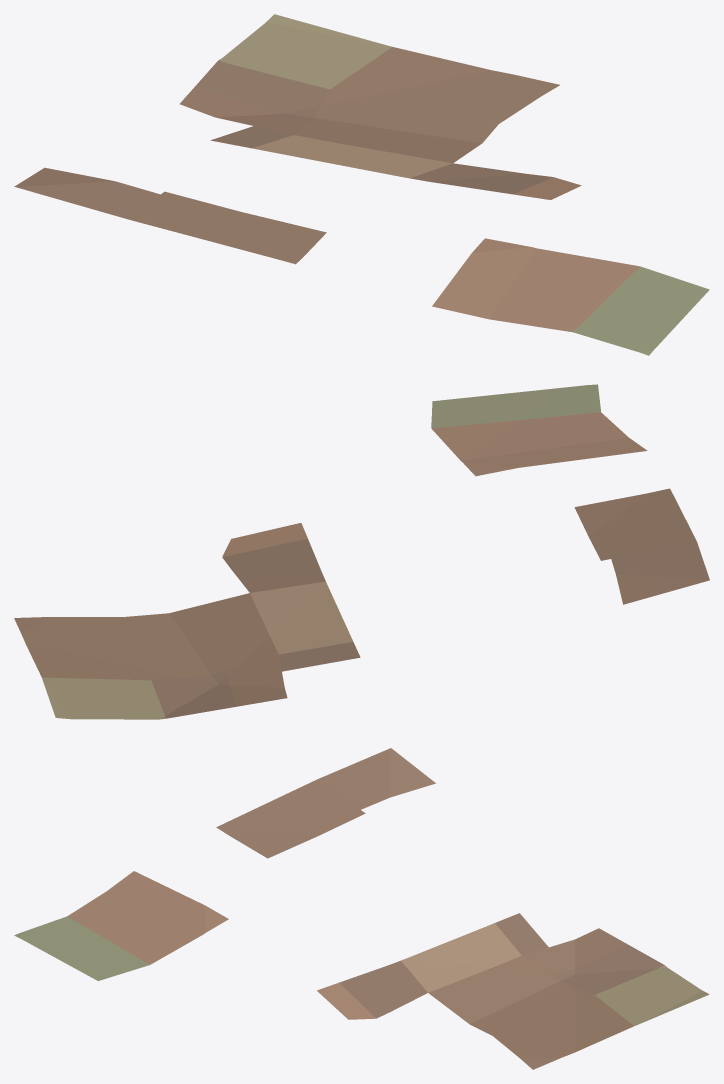
File: farm_-3_6_soil.glb
3 views of the same model, one above another, from view 1: azimuth 30°, elevation 25°; view 2: azimuth 150°, elevation 25°; view 3: azimuth 270°, elevation 25° (orthographic). The views are drawn at different scales.
Visible parts, largest first — view 1: geometry_0; view 2: geometry_0; view 3: geometry_0.
Boxes of the visible parts, x1,y1,x2,y2 form: geometry_0: (14, 14, 709, 355); geometry_0: (14, 384, 709, 719); geometry_0: (14, 748, 709, 1069).
Bounding box in the file's own units: 235 × 44.06 × 301.
